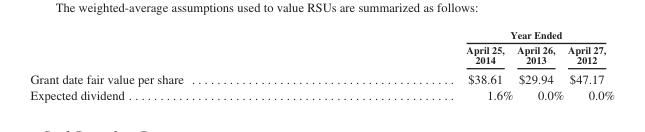table: (29, 28, 614, 101)
table column: (29, 28, 324, 101), (324, 28, 514, 101), (514, 28, 565, 101), (565, 28, 614, 101)
table column header: (29, 28, 614, 68)
table row: (29, 42, 614, 68), (29, 68, 614, 86), (29, 86, 614, 101), (29, 28, 614, 42)
table spanning cell: (324, 28, 614, 42)
